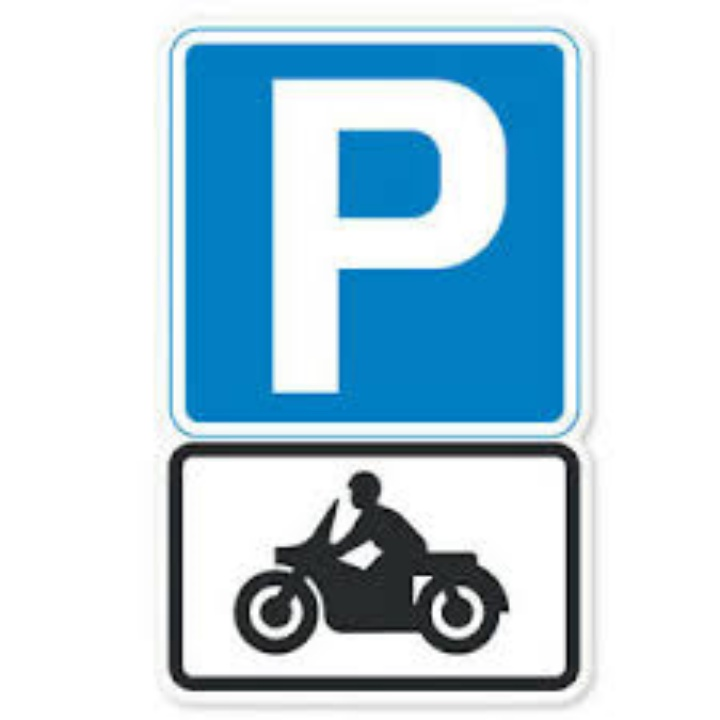parking: (263, 67, 511, 403)
